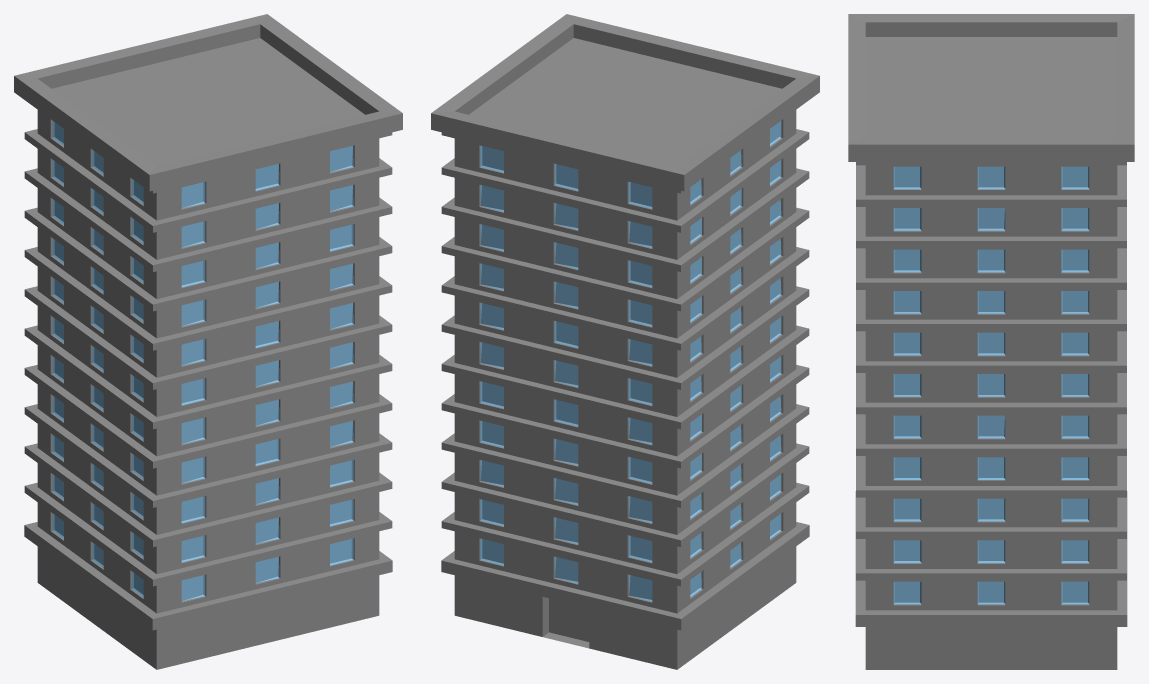
Rendered from Grey Medium.fbx.
The picture shows the model from 3 angles, left to right: view 1: azimuth 30°, elevation 25°; view 2: azimuth 150°, elevation 25°; view 3: azimuth 270°, elevation 25°; orthographic projection. The views are drawn at different scales.
Parts seen in each view (by area): view 1: Grey Medium; view 2: Grey Medium; view 3: Grey Medium.
Part boxes in pixels (x1=…): Grey Medium: x1=14, y1=14, x2=402, y2=669; Grey Medium: x1=431, y1=14, x2=819, y2=669; Grey Medium: x1=848, y1=14, x2=1134, y2=669.
Size of the model in its own units: 9.82 by 18.69 by 9.1.
